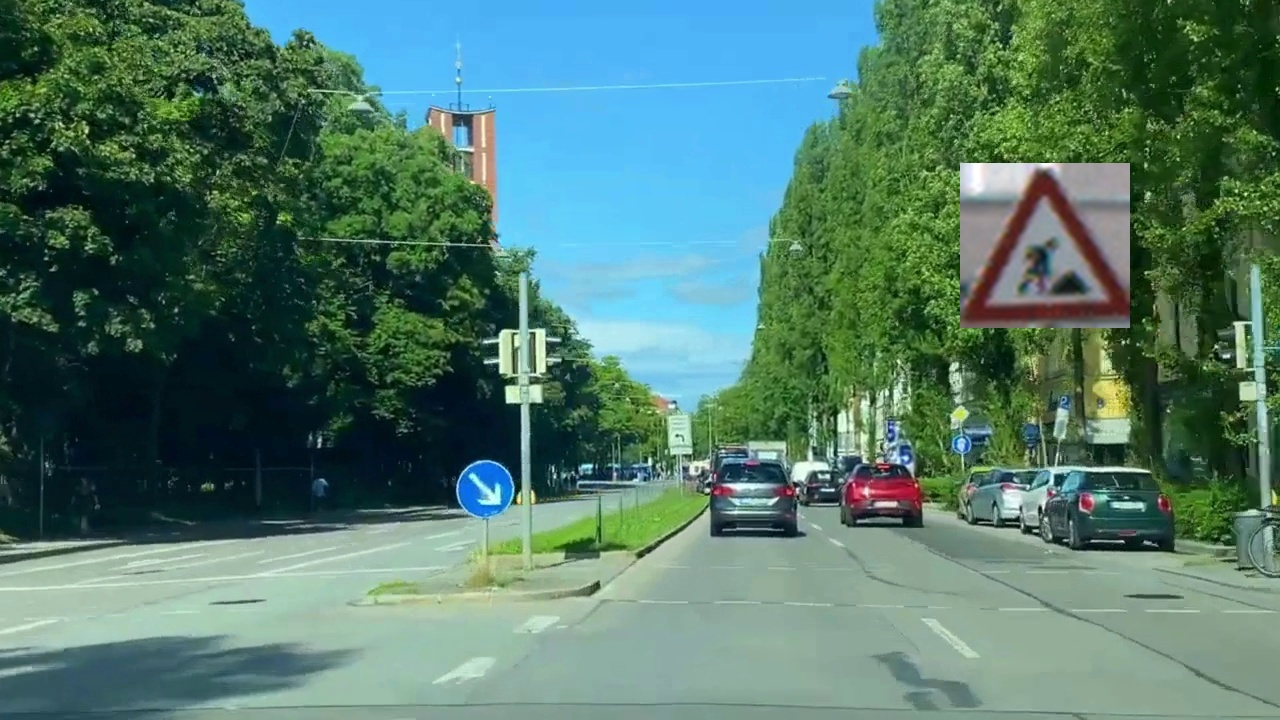Road work: (960, 163, 1130, 328)
